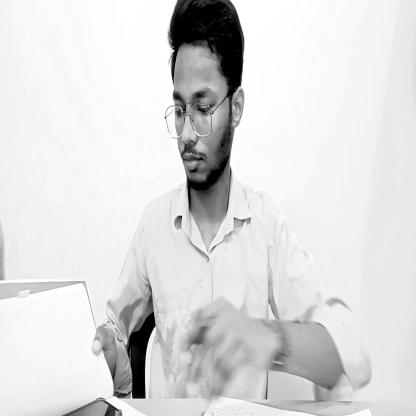Distracted: (166, 1, 248, 196)
